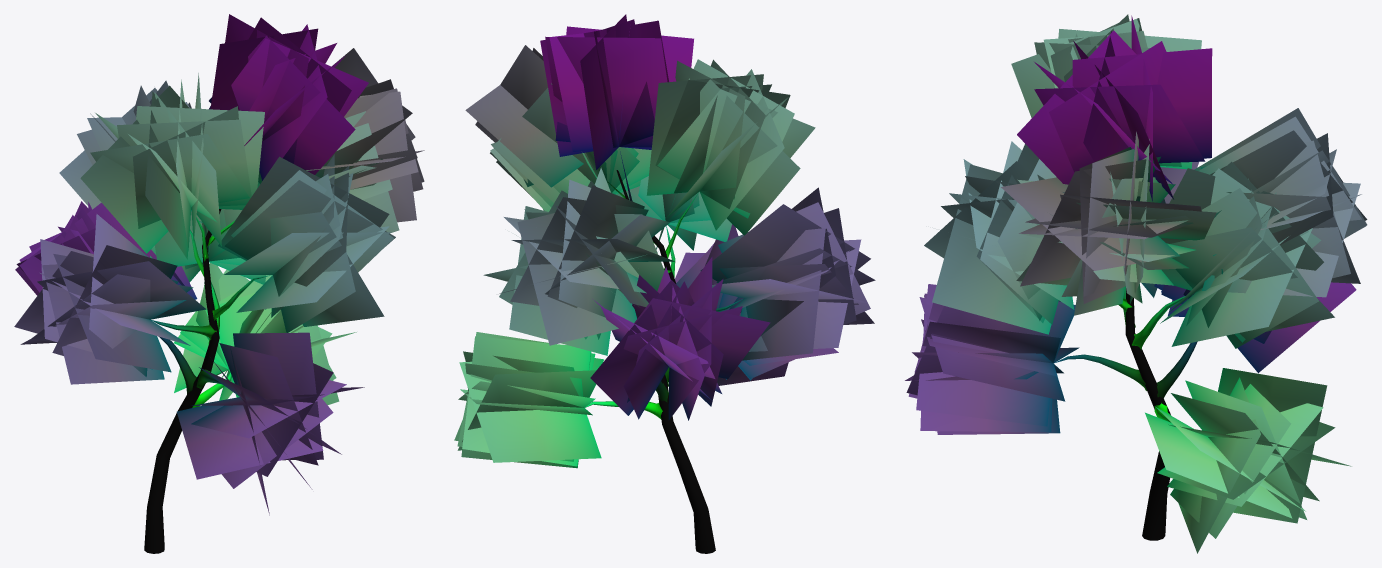
Rendered from URP_P6_Tree_3_LOD_2.fbx.
3 views of the same model, side by side, from view 1: azimuth 30°, elevation 25°; view 2: azimuth 150°, elevation 25°; view 3: azimuth 270°, elevation 25° (orthographic). The views are drawn at different scales.
Visible parts, largest first — view 1: Tree_3_LOD_2; view 2: Tree_3_LOD_2; view 3: Tree_3_LOD_2.
Boxes of the visible parts, left/top/right/bottom form: Tree_3_LOD_2: left=14, top=14, right=424, bottom=553; Tree_3_LOD_2: left=454, top=14, right=875, bottom=553; Tree_3_LOD_2: left=905, top=14, right=1367, bottom=553.
Size of the model in its own units: 558 by 696 by 525.
